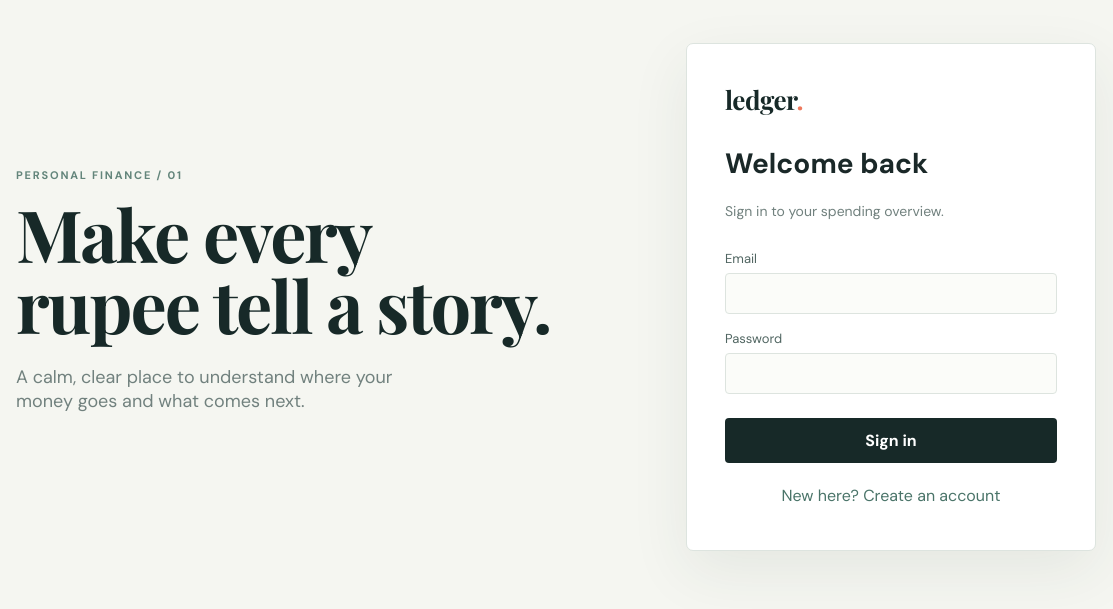
Test case: authentication › shows an error for invalid login
This screenshot has width=1113, height=609.
Type "wrong@example.com" into the field labelled "Email".
click(891, 294); type("wrong@example.com")  # box [725, 273, 1057, 314]
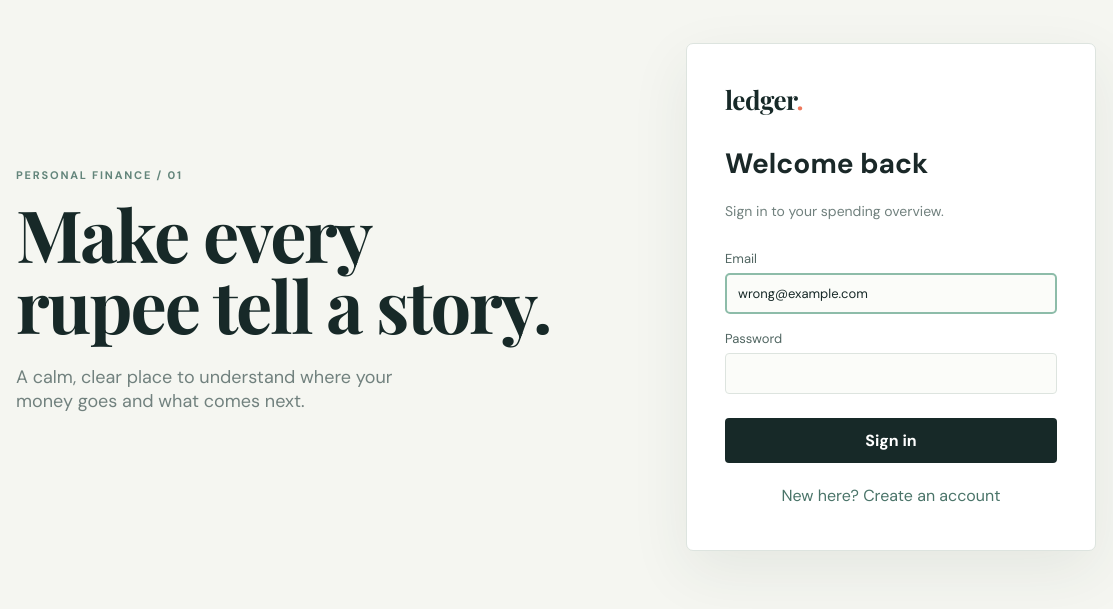
Type "Password123!" into the password field labelled "Password".
click(891, 374); type("Password123!")  # box [725, 353, 1057, 394]
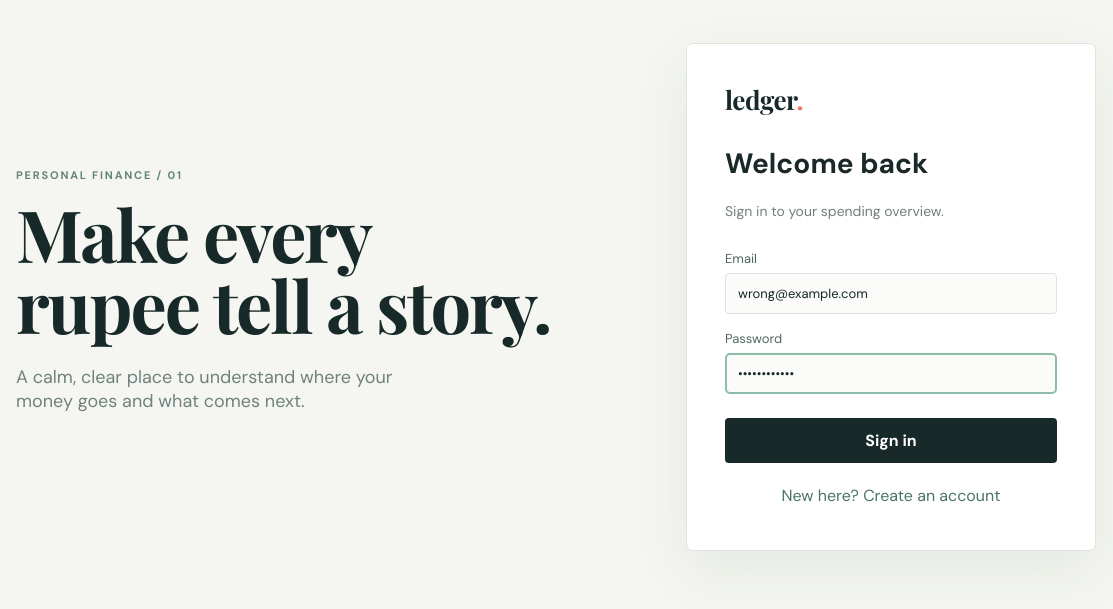
Click the button "Sign in".
click(891, 440)  # box [725, 418, 1057, 463]
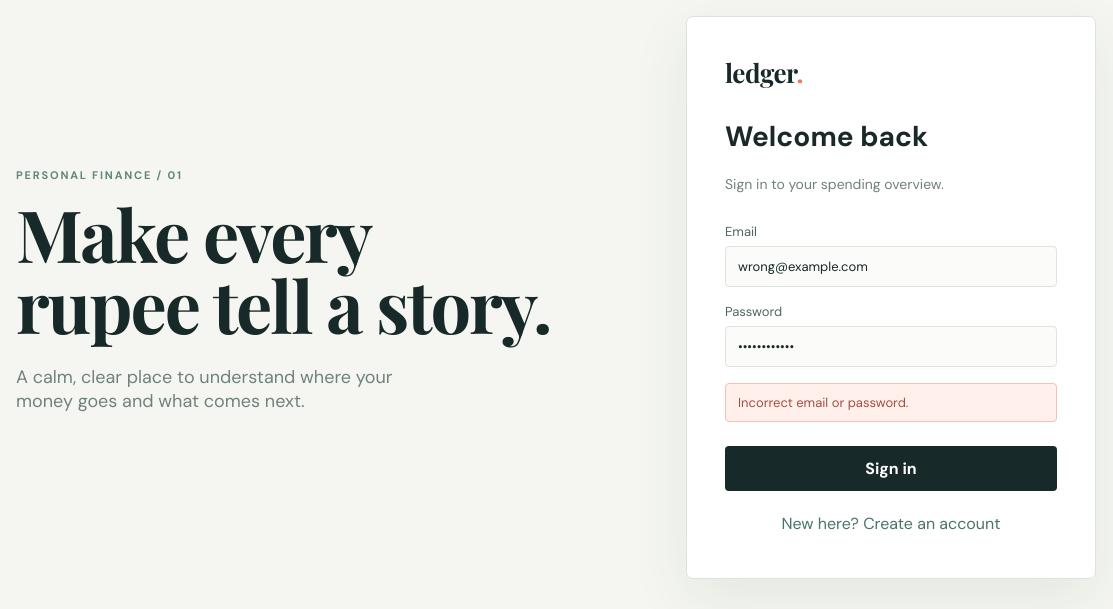
Check: the text "Incorrect email or password." is shown, box [725, 382, 1057, 422]
